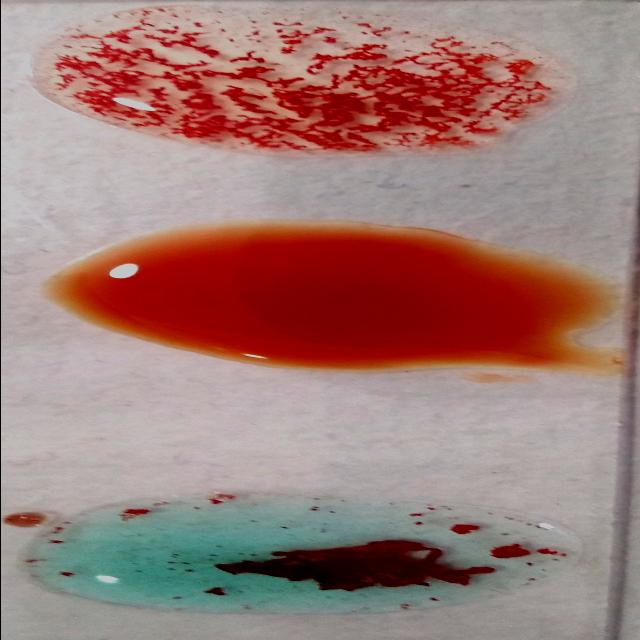A: (15, 498, 568, 616)
D: (31, 8, 548, 156)
